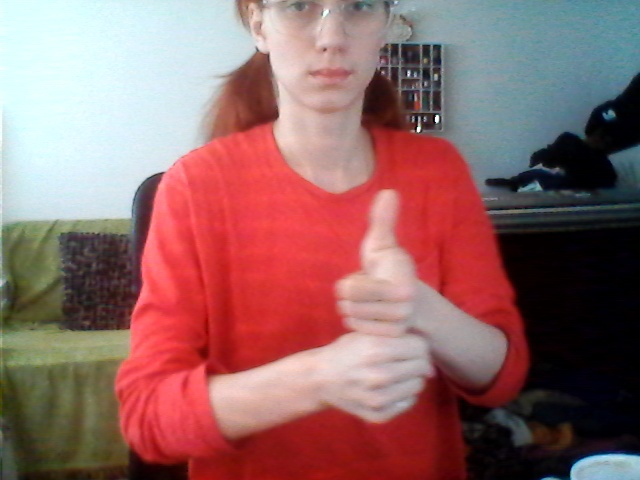kamera: (322, 179, 443, 434)
